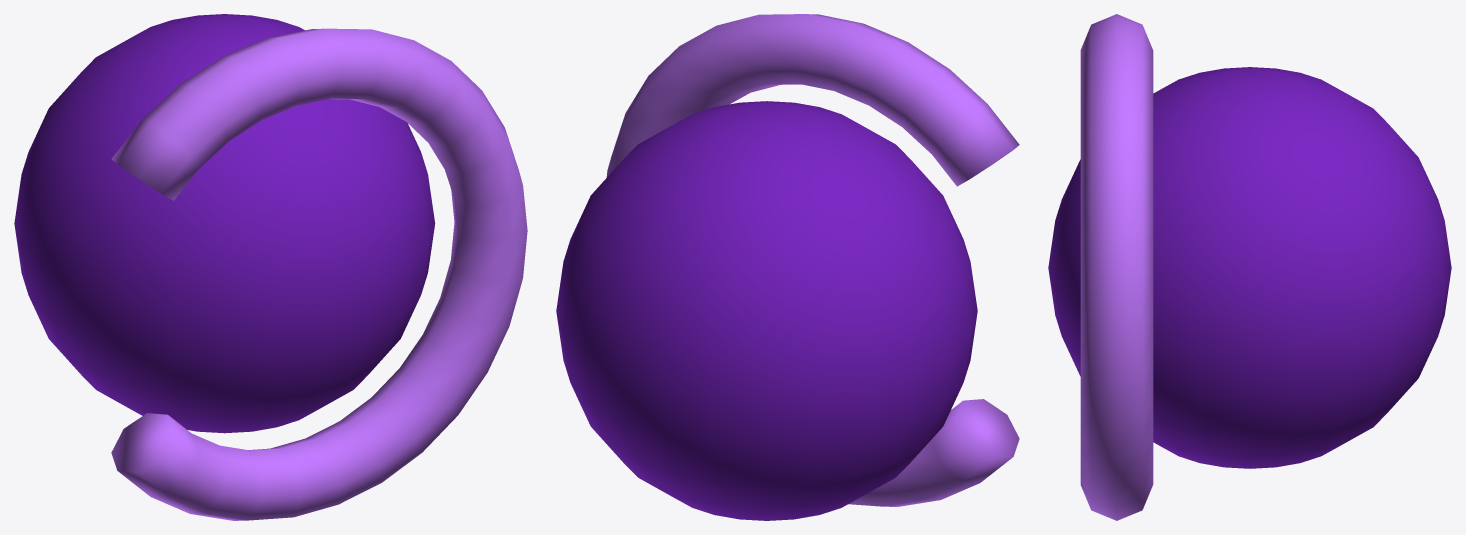
Rendered from BE_PowerMesh_ShadowOrb.fbx.
3 renders of one model, left to right at view 1: azimuth 30°, elevation 25°; view 2: azimuth 150°, elevation 25°; view 3: azimuth 270°, elevation 25°, orthographic. The views are drawn at different scales.
Parts seen in each view (by area): view 1: BE_PowerMesh_ShadowOrb; view 2: BE_PowerMesh_ShadowOrb; view 3: BE_PowerMesh_ShadowOrb.
Part boxes in pixels (<box>): BE_PowerMesh_ShadowOrb: <box>14,14,527,520</box>; BE_PowerMesh_ShadowOrb: <box>556,14,1019,520</box>; BE_PowerMesh_ShadowOrb: <box>1048,14,1451,520</box>.
Size of the model in its own units: 226 by 252 by 200.
1 material, 1 textured.
